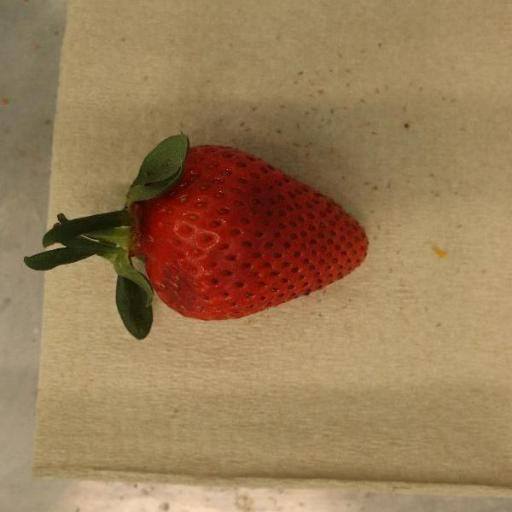Strawberry: (22, 135, 369, 341)
